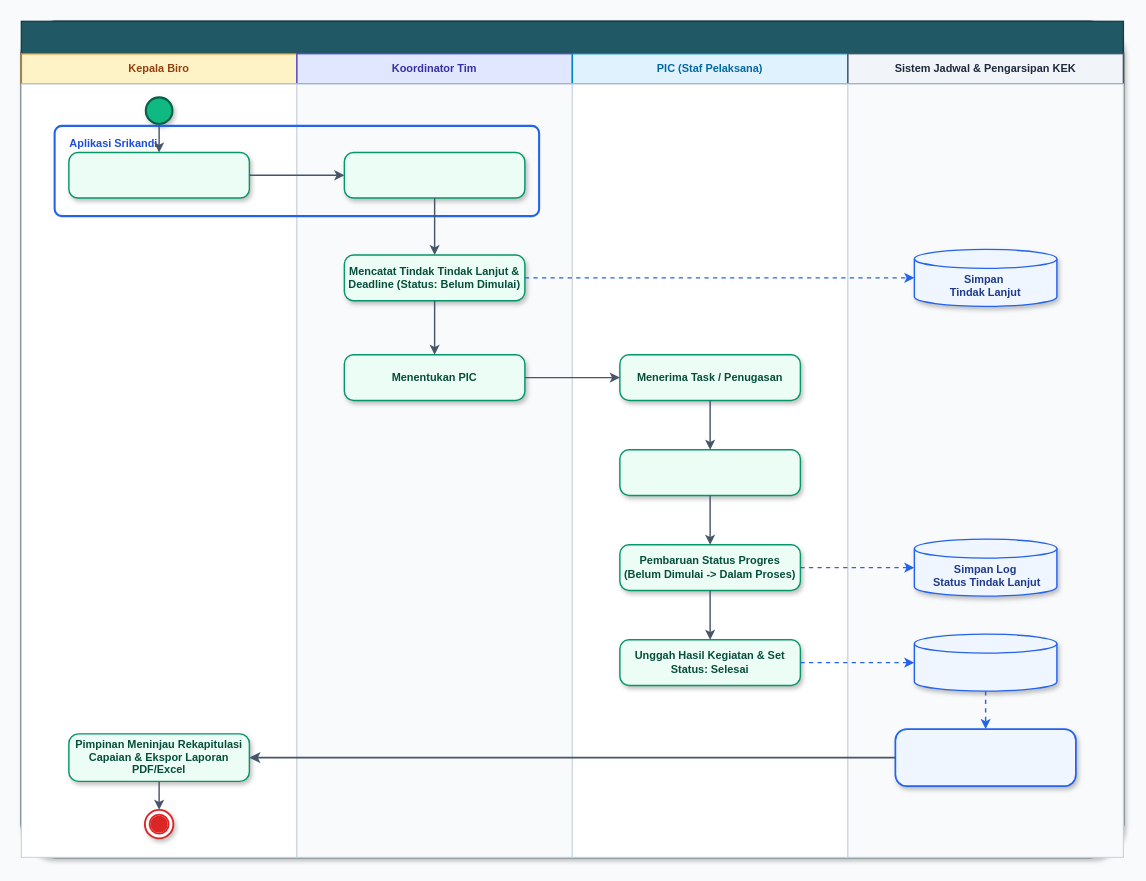
This 1146x881 diagram has some shape labels left out. The shapes that lost their labels are listed below. From the top down, each one's centre as x and y in pixels, then its label:
point (572, 37): Alur Monitoring & Pembaruan Tindak Lanjut
point (159, 176): Memberikan disposisi
point (435, 176): Menerima disposisi
point (710, 473): Melaksanakan Pekerjaan
point (986, 663): Simpan Log Audit Status
point (986, 758): Dashboard Pimpinan (Monitoring Kegiatan & Status Pekerjaan dalam Tim)
